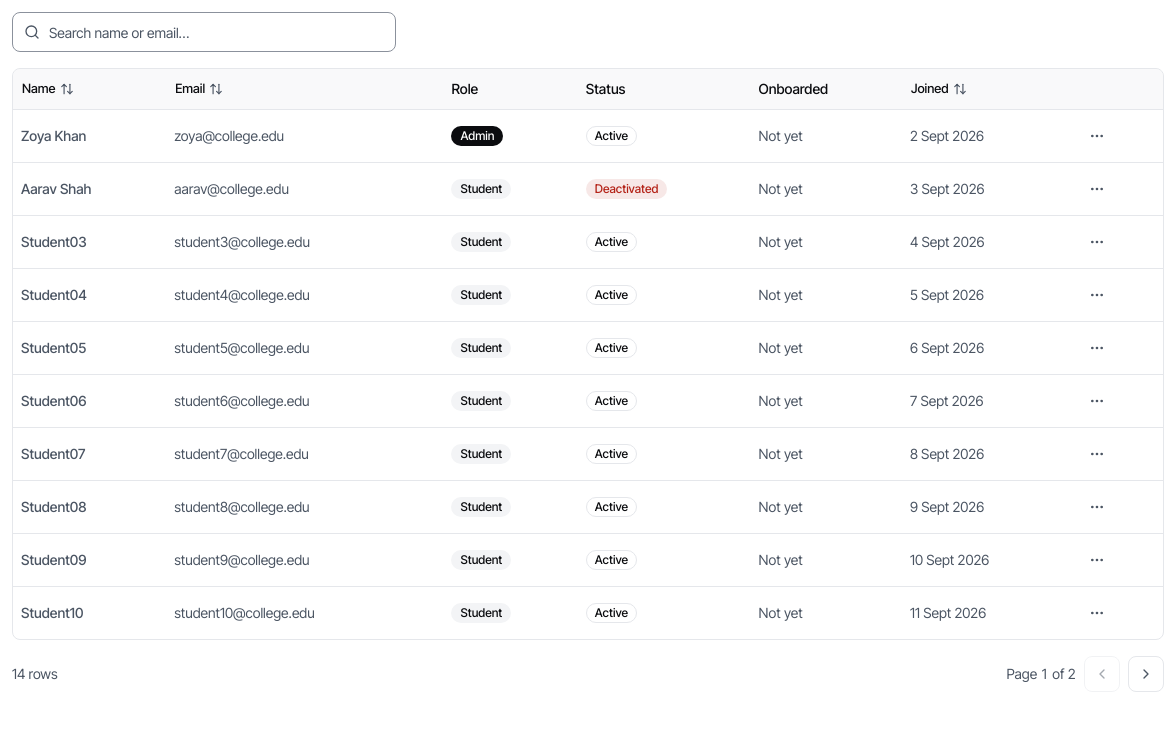
Test: UsersTable › searches across name and email
Step 1. Type "zoya" into the field labelled "Search name or email…" → point(204, 32), box [12,12,396,52]
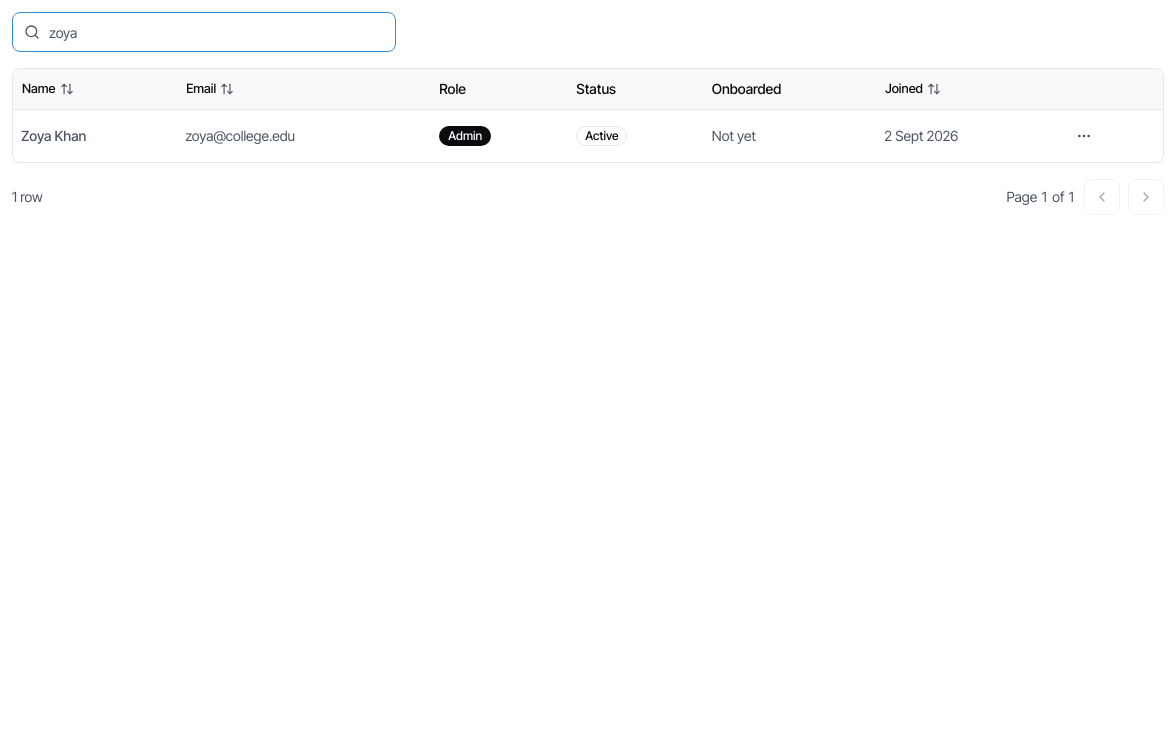
Expected: the text "1 row" is shown, [12,186,43,206]
Step 2. Replace the text in the field with "nobody-here" → point(204, 32), box [12,12,396,52]
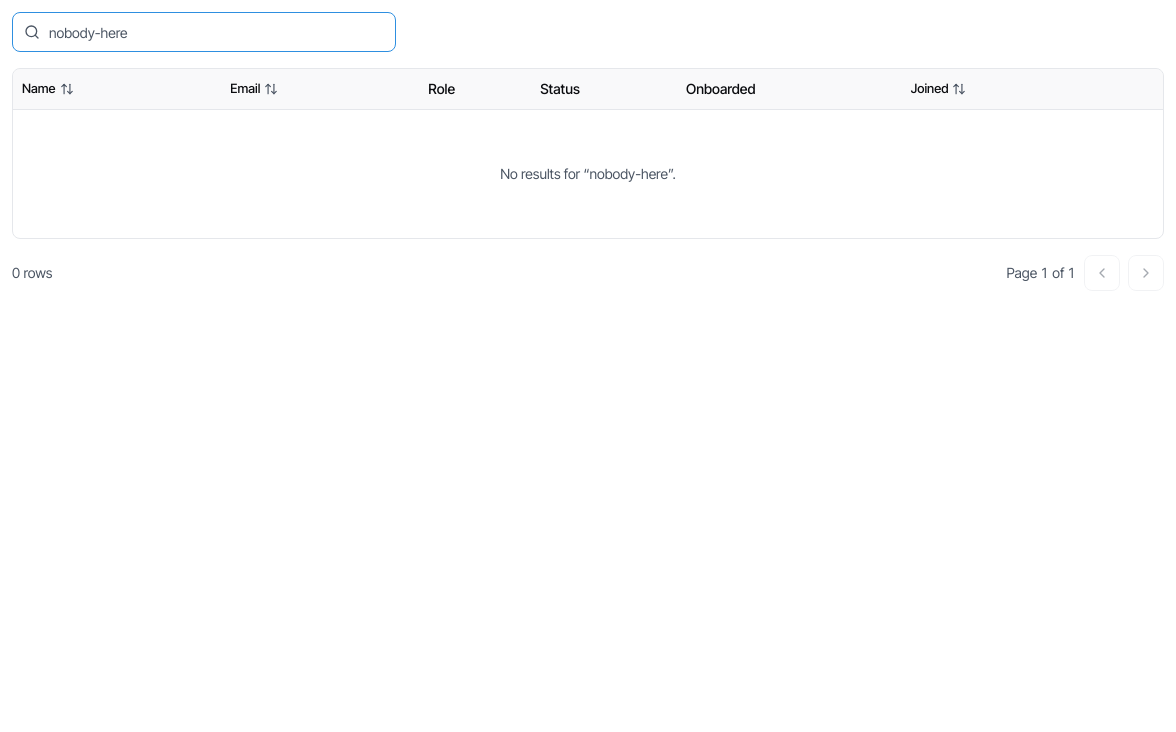
Expected: the text "No results for “nobody-here”." is shown, [13,110,1163,238]
